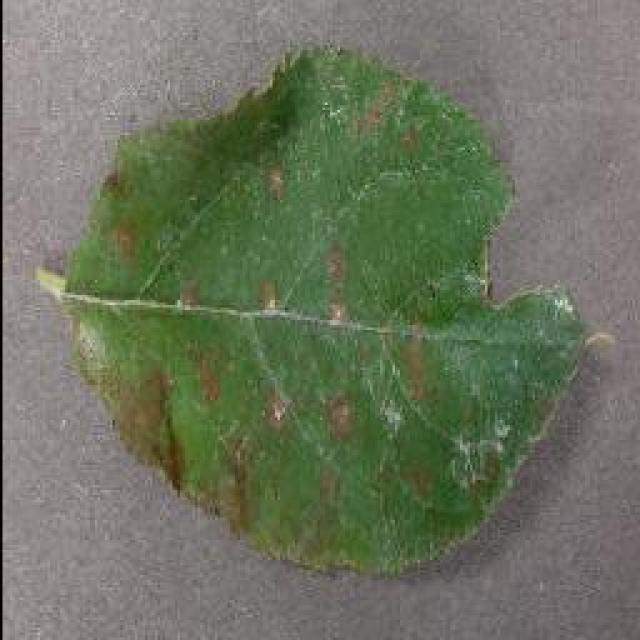apple scab disease: (37, 40, 605, 578)
